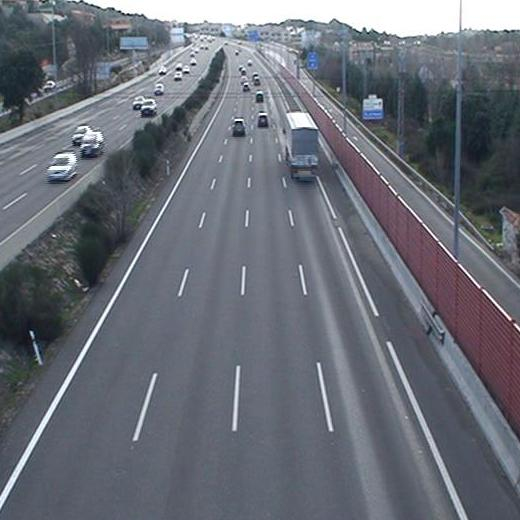car: (231, 118, 247, 137), (256, 111, 269, 126)
truck: (283, 112, 319, 180)
